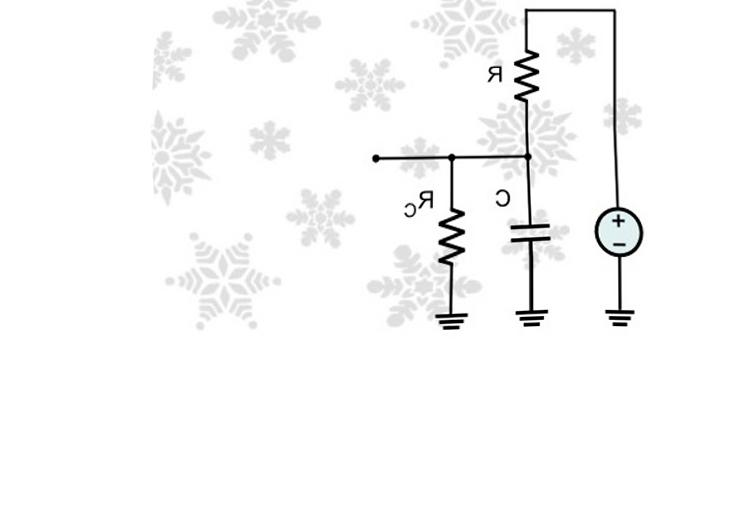Battery: (579, 197, 659, 267)
